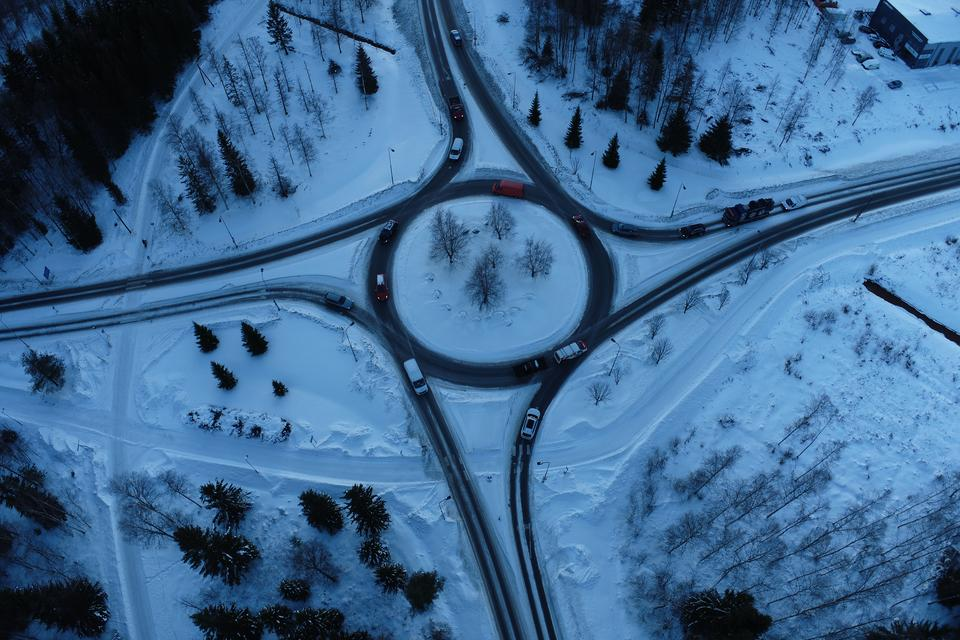intersection: (396, 441, 562, 487), (100, 254, 155, 346)
roundabout: (353, 141, 630, 411)
